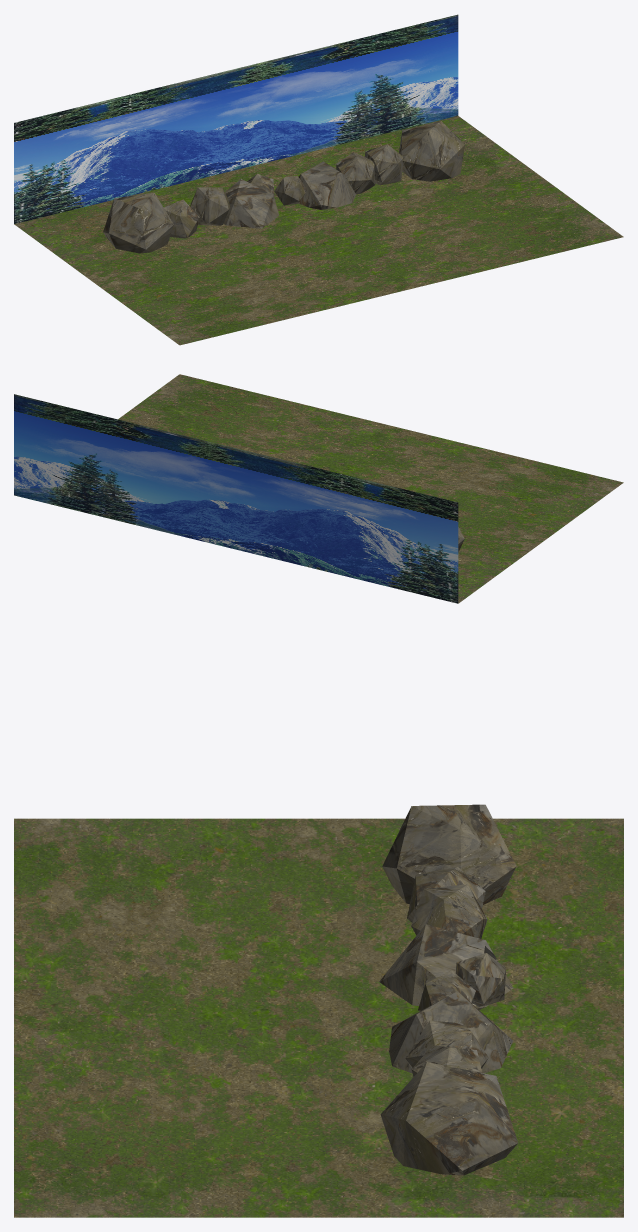
The model's file is Level_Mountains.fbx.
The picture shows the model from 3 angles, top to bottom: view 1: azimuth 30°, elevation 25°; view 2: azimuth 150°, elevation 25°; view 3: azimuth 270°, elevation 25°; orthographic projection. The views are drawn at different scales.
Visible parts, largest first — view 1: Floor, Background, Rocks; view 2: Background, Floor; view 3: Floor, Rocks.
Boxes of the visible parts, <box> form: Floor: <box>14,116,623,345</box>; Background: <box>14,14,458,223</box>; Rocks: <box>103,121,464,253</box>; Background: <box>14,394,458,603</box>; Floor: <box>118,374,623,603</box>; Floor: <box>14,818,623,1217</box>; Rocks: <box>379,804,517,1175</box>.
Bounding box in the file's own units: 628 × 182 × 405.
